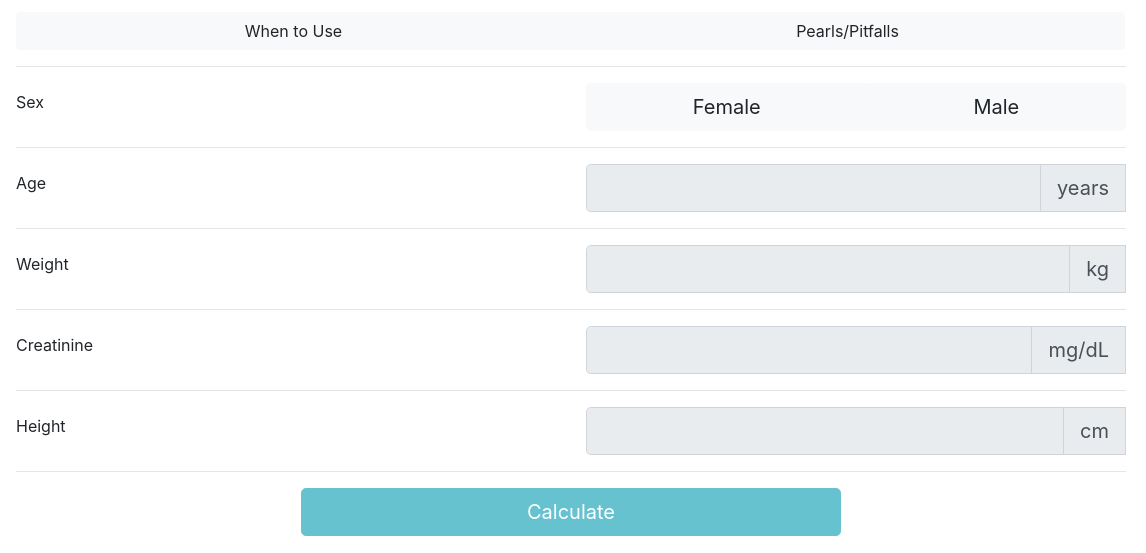
Scenario: Application › shows information about › known pearls/pitfalls
Click the button "Pearls/Pitfalls". click: click(848, 31)
box: [570, 12, 1125, 50]
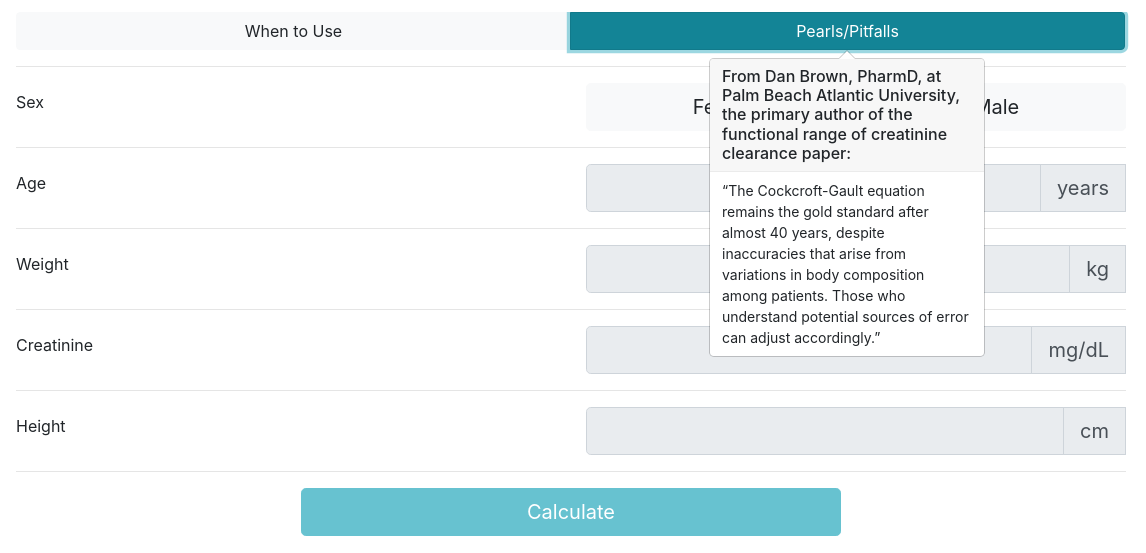
Check: the heading "From Dan Brown, PharmD, at Palm Beach Atlantic University, the primary author of the functional range of creatinine clea" is shown, box [722, 66, 960, 163]
Check: the text "The Cockcroft-Gault equation remains the gold standard after almost 40 years, despite inaccuracies that arise from varia" is shown, box [722, 182, 969, 346]
